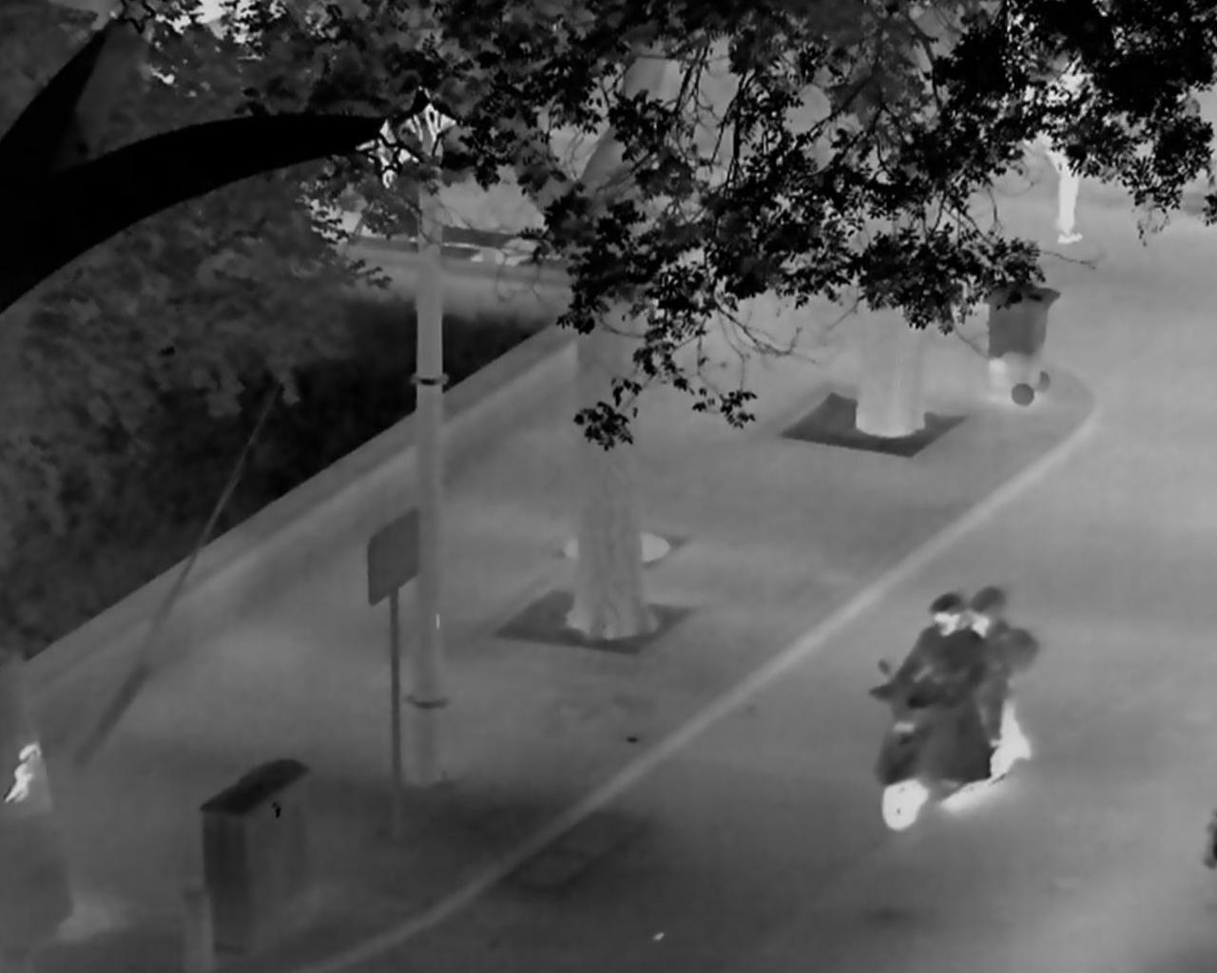person: (874, 595, 983, 787), (1033, 67, 1090, 244), (965, 588, 1007, 749)
